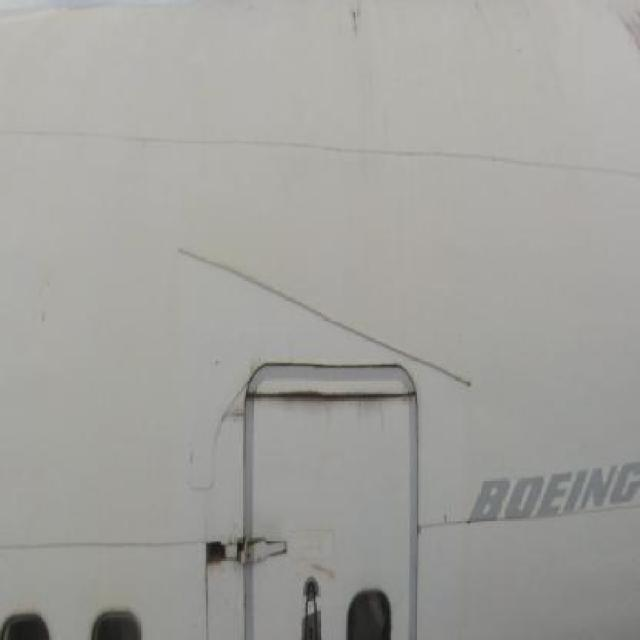Rust: (251, 380, 409, 434), (342, 11, 390, 62)
